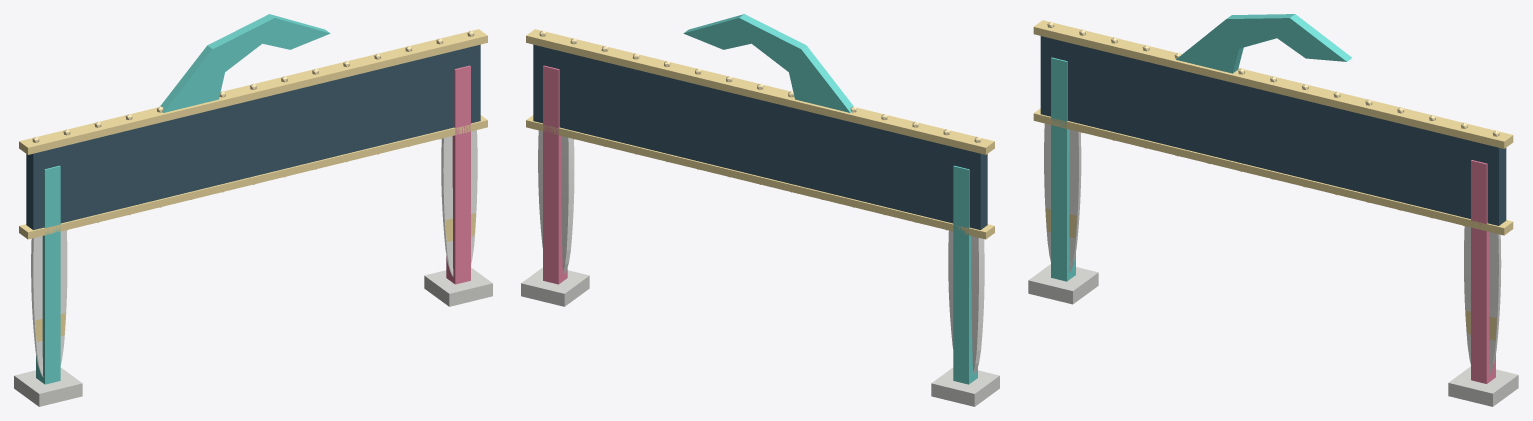
Rendered from ParkArch.fbx.
3 renders of one model, left to right at view 1: azimuth 30°, elevation 25°; view 2: azimuth 150°, elevation 25°; view 3: azimuth 330°, elevation 25°, orthographic. The views are drawn at different scales.
Visible parts, largest first — view 1: ParkArch; view 2: ParkArch; view 3: ParkArch.
Part boxes in pixels (x1,y1,x2,y2): ParkArch: (14,14,492,406); ParkArch: (521,14,999,406); ParkArch: (1028,14,1518,406).
Bounding box in the file's own units: 14.8 × 9.9 × 1.4.
